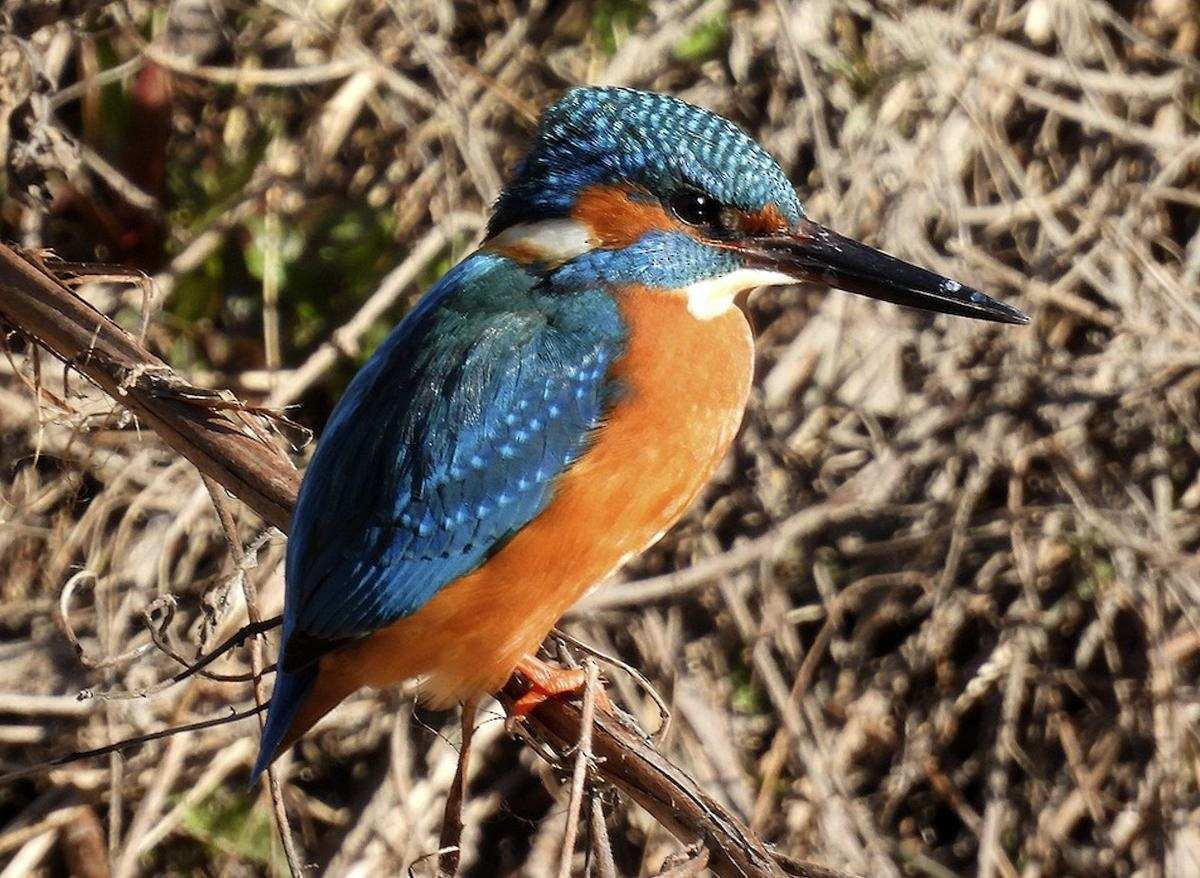kingfisher: (276, 69, 1038, 704)
